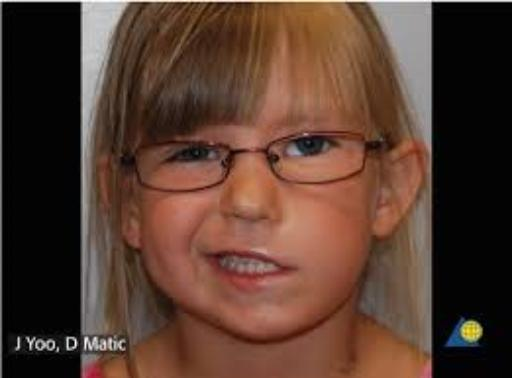left_eye: (271, 137, 351, 164)
left_lip_corner: (283, 260, 315, 279)
right_eye: (161, 147, 225, 169)
right_lip_corner: (195, 246, 221, 266)
